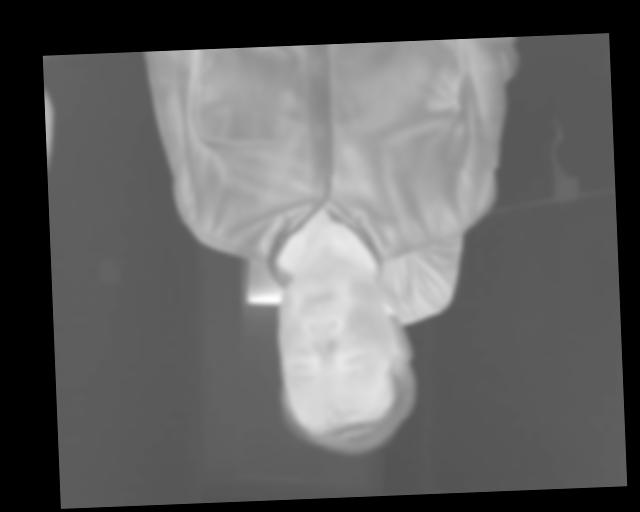face: (274, 260, 420, 461)
